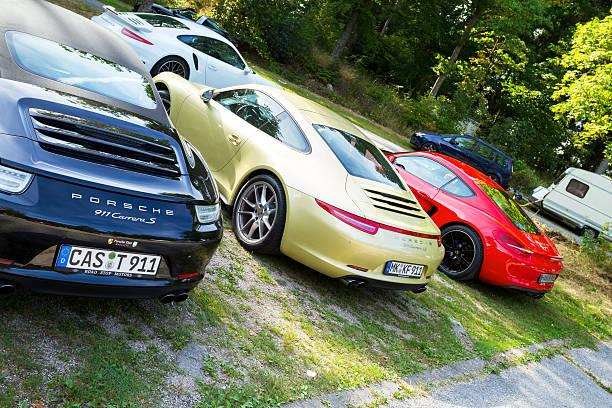porsche: (64, 187, 182, 217)
